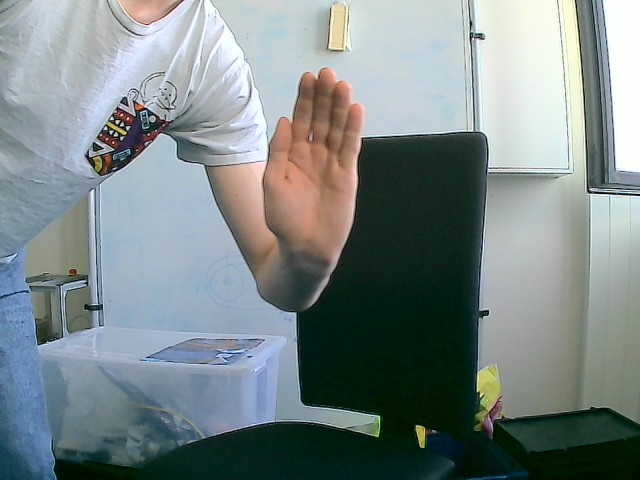stop: (261, 66, 365, 266)
